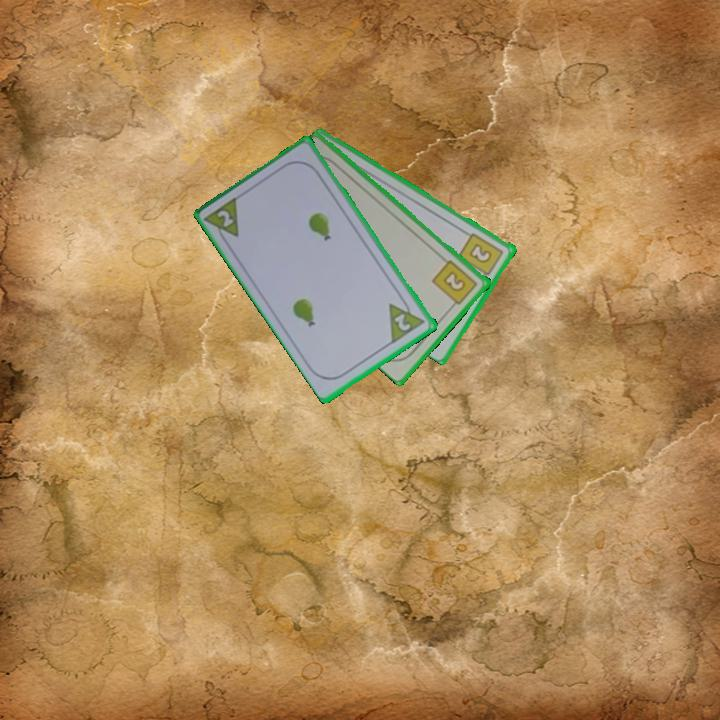2b: (429, 256, 481, 311), (455, 229, 507, 283)
2p: (202, 193, 242, 248), (391, 310, 414, 334)
